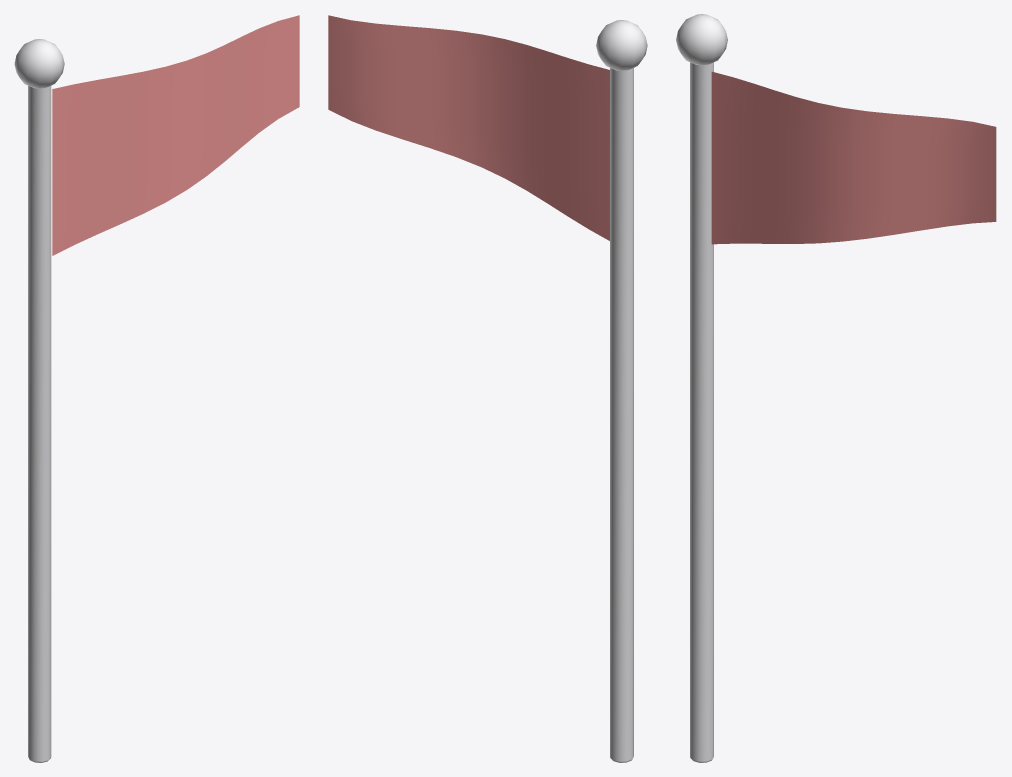
The model's file is BobsledFlag.glb.
The picture shows the model from 3 angles, left to right: view 1: azimuth 30°, elevation 25°; view 2: azimuth 150°, elevation 25°; view 3: azimuth 330°, elevation 25°; orthographic projection. The views are drawn at different scales.
Parts seen in each view (by area): view 1: Cloth, Pole; view 2: Cloth, Pole; view 3: Cloth, Pole.
Boxes of the visible parts, x1,y1,x2,y2 form: Cloth: [52, 15, 299, 255]; Pole: [14, 39, 64, 762]; Cloth: [328, 15, 609, 240]; Pole: [596, 20, 647, 762]; Cloth: [711, 71, 996, 244]; Pole: [676, 14, 727, 762].
Bounding box in the file's own units: 4.05 × 9.45 × 0.6329.
